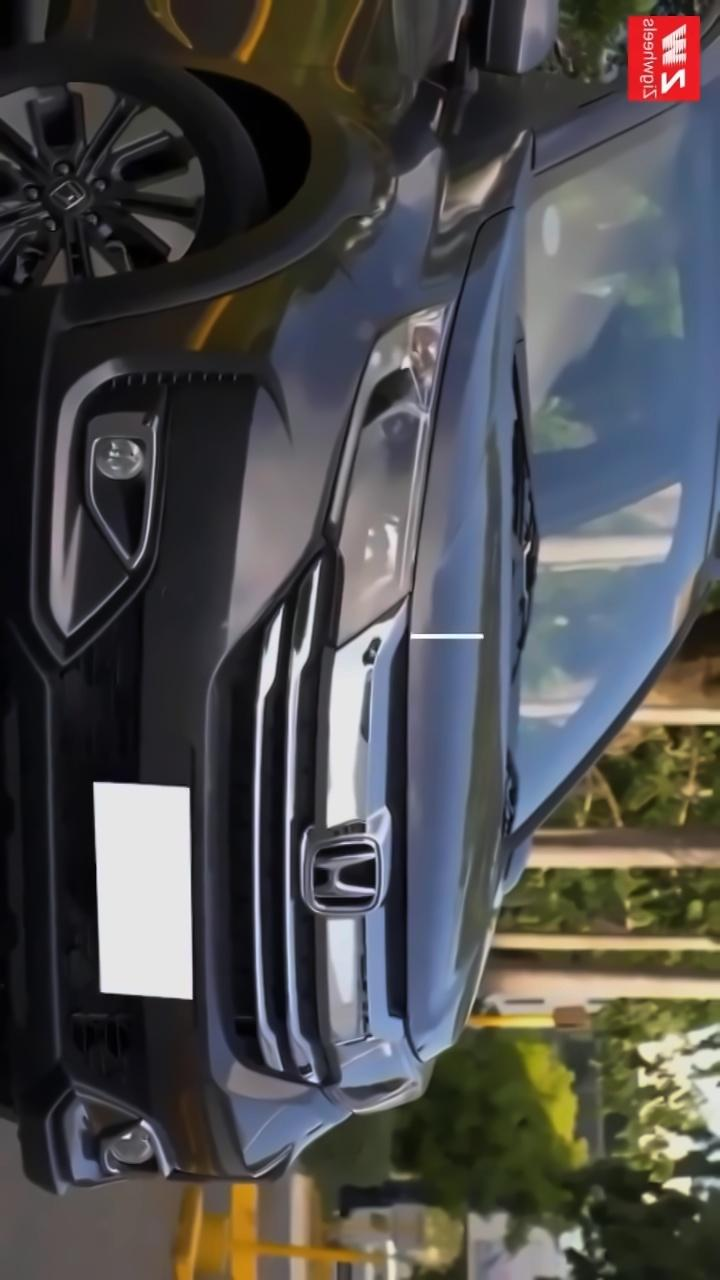Car hood: (393, 198, 504, 1079)
Fender - -F-R-: (68, 43, 538, 332)
Front bumper: (0, 257, 336, 1213)
Headlight - -L-: (318, 1020, 438, 1131)
Headlight - -R-: (310, 288, 459, 663)
Side mirror - -L-: (490, 805, 550, 922)
Side mirror - -R-: (463, 0, 582, 90)
